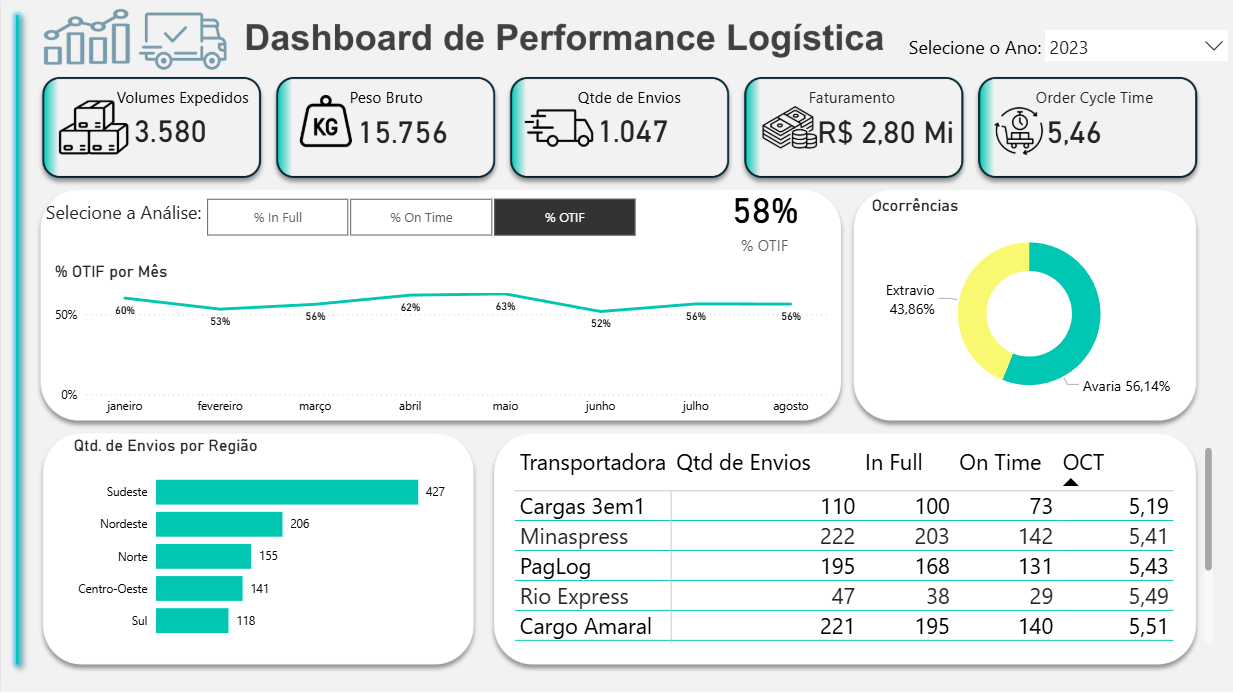

The page's visual inventory and layout, read from the dashboard file:
{"tool":"powerbi","page":{"name":"Página 1","canvas":[1280,720],"ordinal":0},"visuals":[{"type":"card","title":"Volumes Expedidos","fields":{"Values":["Medidas.Volumes expedidos"]},"box":[102.2,99.4,145.4,73.4],"z":1000},{"type":"textbox","box":[115.2,87,210.2,56.2],"z":2000},{"type":"card","title":"Volumes Expedidos","fields":{"Values":["Medidas.Peso Bruto"]},"box":[331.2,100,168.5,73.4],"z":3000},{"type":"textbox","box":[355.7,87,210.2,56.2],"z":4000},{"type":"card","title":"Volumes Expedidos","fields":{"Values":["Medidas.Qtd Notas Fiscais"]},"box":[568.8,99.4,168.5,73.4],"z":5000},{"type":"textbox","box":[591.8,87,210.2,56.2],"z":6000},{"type":"card","title":"Volumes Expedidos","fields":{"Values":["Medidas.Faturamento"]},"box":[807.8,100,214.6,73.4],"z":7000},{"type":"textbox","box":[830.9,87,210.2,56.2],"z":8000},{"type":"card","title":"Volumes Expedidos","fields":{"Values":["Medidas.OCT"]},"box":[1025.3,100,168.5,73.4],"z":9000},{"type":"textbox","box":[1065.6,87,152.6,56.2],"z":10000},{"type":"slicer","fields":{"Values":["dCalendario.Ano"]},"box":[1068.3,21.6,211.7,54.7],"z":11000},{"type":"textbox","box":[934.6,33.1,155.5,46.1],"z":12000},{"type":"lineChart","fields":{"Category":["dCalendario.Datas.Variation.Hierarquia de datas.Mês"],"Y":["Medidas.% In Full"]},"box":[50.4,273.6,810.7,167],"z":13000},{"type":"slicer","fields":{"Values":["Análises.Análises"]},"box":[187.7,200.2,493.4,51.8],"z":14000},{"type":"textbox","box":[41.1,203.8,196.6,46.5],"z":15000},{"type":"card","fields":{"Values":["Medidas.% In Full"]},"box":[722.9,181.4,133.9,92.2],"z":16000},{"type":"donutChart","title":"Ocorrências","fields":{"Category":["Notas.Ocorrencia"],"Y":["Medidas.Qtd Notas Fiscais"]},"box":[895.7,204.5,335.5,224.6],"z":17000},{"type":"pivotTable","title":"Transportadoras com menor OTIF","fields":{"Rows":["Notas.Transportadora"],"Values":["Medidas.Qtd Notas Fiscais","Medidas.In Full","Medidas.On Time","Medidas.OCT"]},"box":[527,459.4,731.5,213.1],"z":18000},{"type":"clusteredBarChart","title":"Qtd. de Envios por Região","fields":{"Category":["fEnvios.Região"],"Y":["Medidas.Qtd Notas Fiscais"]},"box":[70.2,453,412.6,223],"z":19000}]}

Visuals, with their boxes in screenshot pixels (x1, y1, x2, y2), scaled from the page's 1280x720 canvas onto the 1233x693 screenshot:
"Volumes Expedidos" card: pyautogui.locateOnScreen(98, 96, 239, 166)
textbox: pyautogui.locateOnScreen(111, 84, 313, 138)
"Volumes Expedidos" card: pyautogui.locateOnScreen(319, 96, 481, 167)
textbox: pyautogui.locateOnScreen(343, 84, 545, 138)
"Volumes Expedidos" card: pyautogui.locateOnScreen(548, 96, 710, 166)
textbox: pyautogui.locateOnScreen(570, 84, 773, 138)
"Volumes Expedidos" card: pyautogui.locateOnScreen(778, 96, 985, 167)
textbox: pyautogui.locateOnScreen(800, 84, 1003, 138)
"Volumes Expedidos" card: pyautogui.locateOnScreen(988, 96, 1150, 167)
textbox: pyautogui.locateOnScreen(1026, 84, 1173, 138)
slicer - dCalendario.Ano: pyautogui.locateOnScreen(1029, 21, 1232, 73)
textbox: pyautogui.locateOnScreen(900, 32, 1050, 76)
lineChart - dCalendario.Datas.Variation.Hierarquia de datas.Mês x Medidas.% In Full: pyautogui.locateOnScreen(49, 263, 829, 424)
slicer - Análises.Análises: pyautogui.locateOnScreen(181, 193, 656, 243)
textbox: pyautogui.locateOnScreen(40, 196, 229, 241)
card - Medidas.% In Full: pyautogui.locateOnScreen(696, 175, 825, 263)
"Ocorrências" donutChart: pyautogui.locateOnScreen(863, 197, 1186, 413)
"Transportadoras com menor OTIF" pivotTable: pyautogui.locateOnScreen(508, 442, 1212, 647)
"Qtd. de Envios por Região" clusteredBarChart: pyautogui.locateOnScreen(68, 436, 465, 651)
